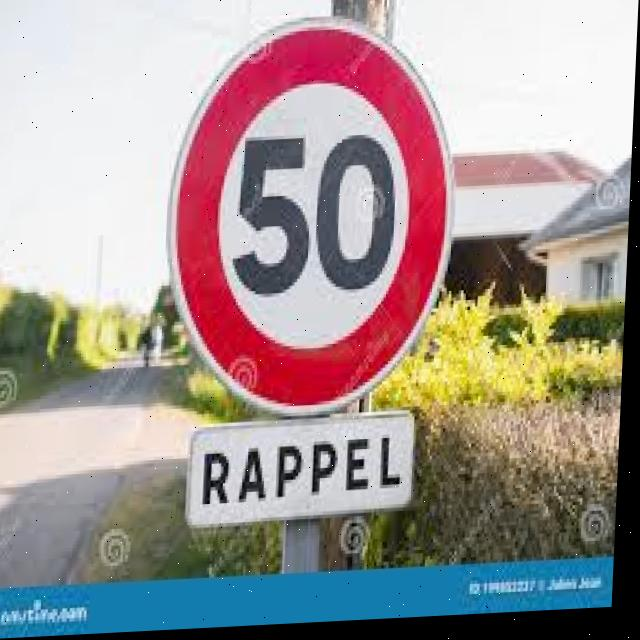Speed limit 50: (160, 12, 465, 426)
